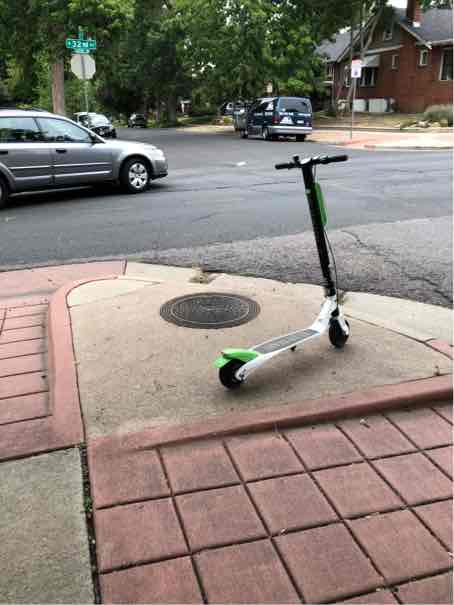scooter: (204, 146, 361, 399)
